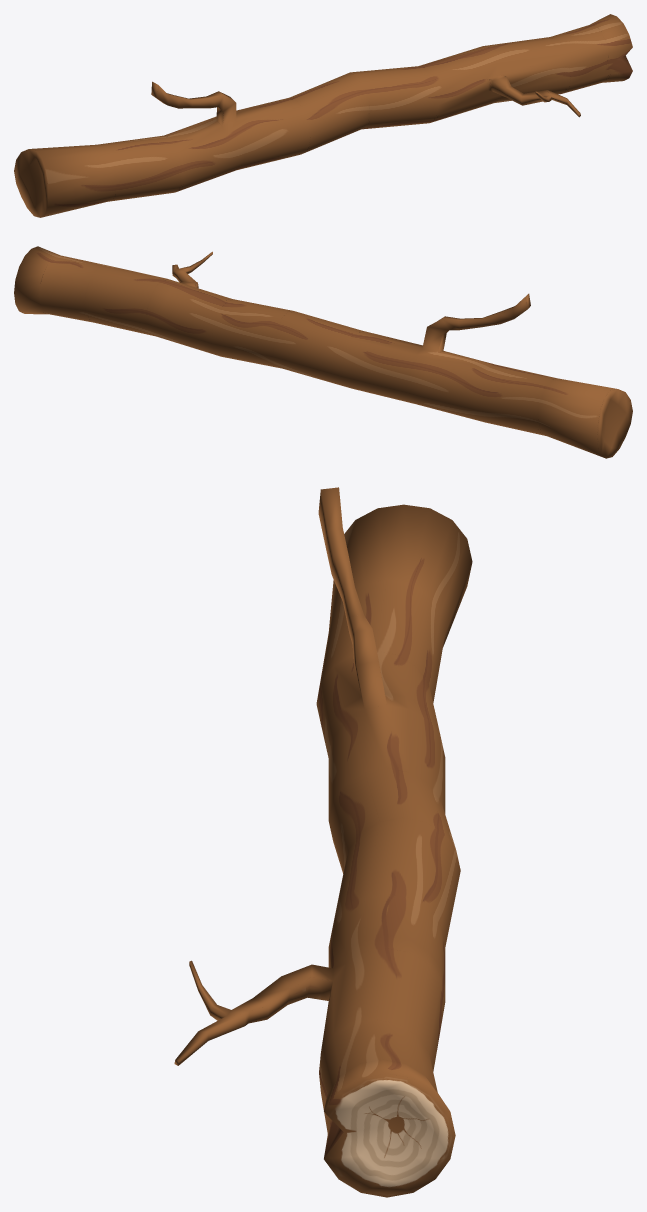
File: trunk.fbx
The picture shows the model from 3 angles, top to bottom: view 1: azimuth 30°, elevation 25°; view 2: azimuth 150°, elevation 25°; view 3: azimuth 270°, elevation 25°; orthographic projection. The views are drawn at different scales.
Visible parts, largest first — view 1: trunk; view 2: trunk; view 3: trunk.
Part boxes in pixels (x1,y1,x2,y2): trunk: (14,14,632,217); trunk: (14,246,632,458); trunk: (174,487,472,1197).
Bounding box in the file's own units: 455 × 91.42 × 101.
